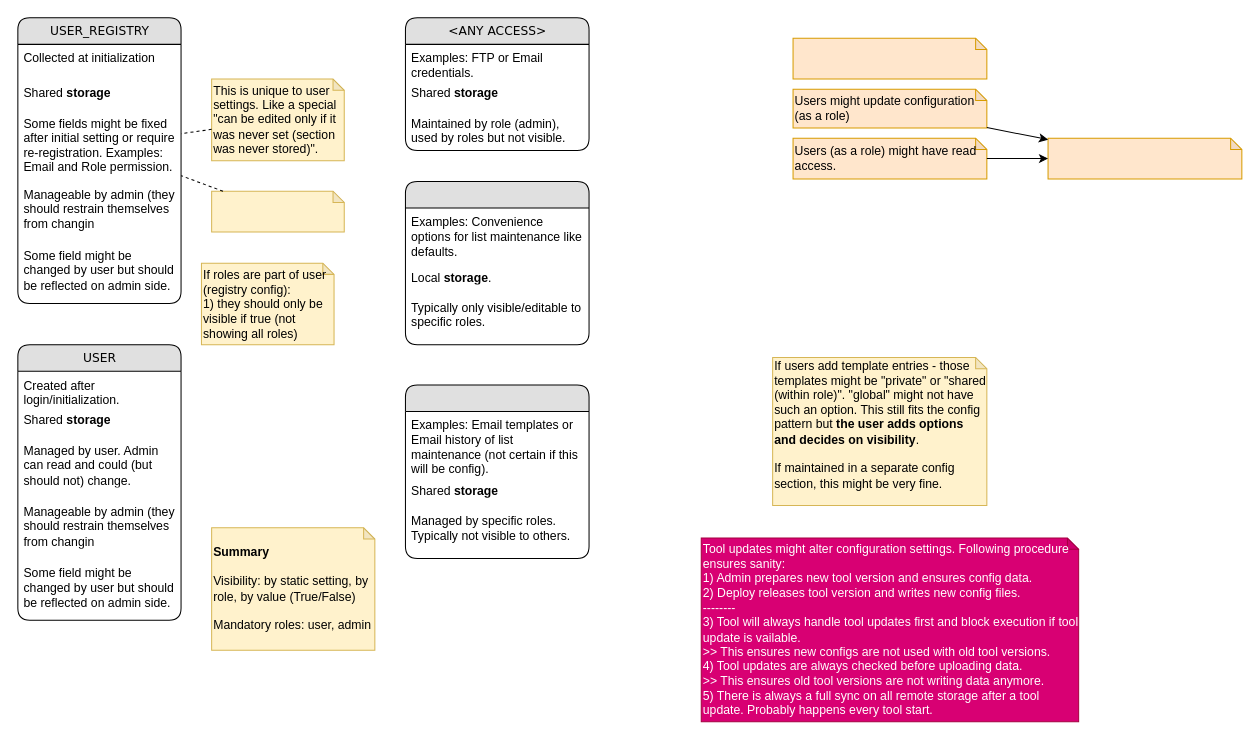
Some shapes in this 1260 by 740 pixel diagram are drawn without their labels. The shapes that lost their labels are listed below. From the top down, each one's box as (x1, y1, x2, y2) in pixels, then its label:
(792, 37, 987, 79): Roles (admin) must be able to update configuration for all users.
(1047, 137, 1242, 179): Options should take over section access settings but need overwriting.
(211, 190, 344, 232): While user cannot change. Admin still can.
(404, 181, 589, 345): <FEATURE_LOCAL>
(404, 384, 589, 558): <FEATURE_SHARED>
